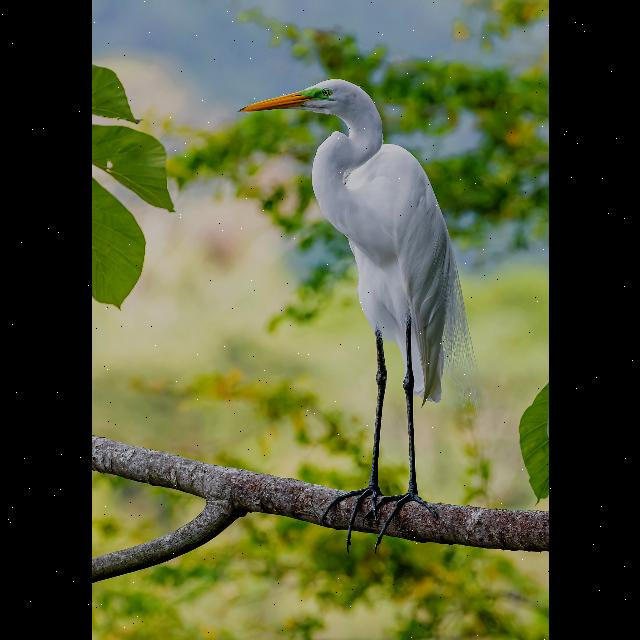egret: (230, 72, 458, 550)
